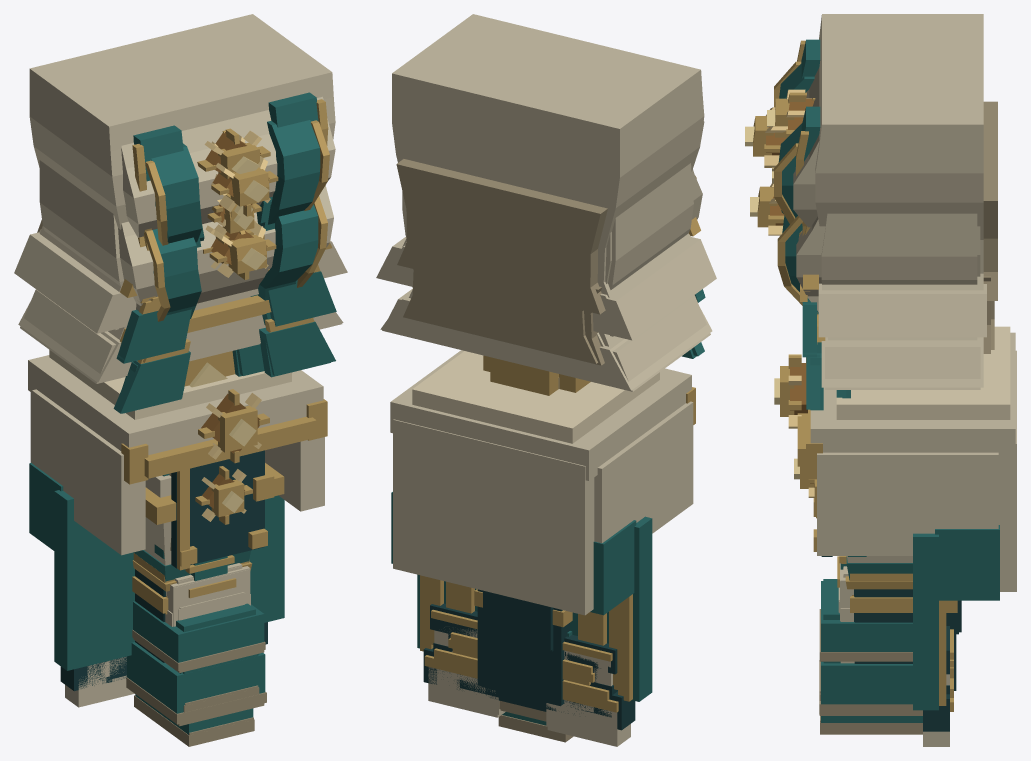
File: cleric-kit.glb
3 views of the same model, side by side, from view 1: azimuth 30°, elevation 25°; view 2: azimuth 150°, elevation 25°; view 3: azimuth 270°, elevation 25° (orthographic). The views are drawn at different scales.
Visible parts, largest first — view 1: cleric-body-orc-male-torso, cleric-head-mesh, cleric-body-dwarf-female-torso, cleric-body-orc-female-torso, cleric-body-dwarf-male-torso, cleric-offhand-mesh, cleric-back-orc-male-mesh, cleric-body-elf-male-torso, cleric-shoes-orc-male-mesh, cleric-shoes-dwarf-male-mesh, cleric-back-orc-female-mesh, cleric-body-orc-female-left-arm (+16 smaller); view 2: cleric-head-mesh, cleric-body-orc-male-torso, cleric-body-orc-female-torso, cleric-body-dwarf-female-torso, cleric-body-dwarf-male-torso, cleric-back-orc-male-mesh, cleric-body-elf-male-torso, cleric-shoes-orc-male-mesh, cleric-back-orc-female-mesh, cleric-shoes-goblin-male-mesh, cleric-back-elf-female-mesh, cleric-weapon-mesh (+6 smaller); view 3: cleric-body-orc-male-torso, cleric-head-mesh, cleric-body-dwarf-male-torso, cleric-body-elf-male-torso, cleric-body-dwarf-female-torso, cleric-shoes-orc-male-mesh, cleric-back-orc-male-mesh, cleric-body-orc-female-torso, cleric-shoes-dwarf-male-mesh, cleric-shoes-elf-male-mesh, cleric-body-orc-female-left-arm, cleric-shoes-goblin-male-mesh (+1 smaller).
Part boxes in pixels (x1=…): cleric-body-orc-male-torso: x1=14, y1=14, x2=347, y2=363; cleric-head-mesh: x1=28, y1=350, x2=327, y2=555; cleric-body-dwarf-female-torso: x1=18, y1=185, x2=343, y2=413; cleric-body-orc-female-torso: x1=39, y1=96, x2=342, y2=361; cleric-body-dwarf-male-torso: x1=20, y1=160, x2=341, y2=413; cleric-offhand-mesh: x1=154, y1=450, x2=274, y2=570; cleric-back-orc-male-mesh: x1=54, y1=490, x2=284, y2=707; cleric-body-elf-male-torso: x1=80, y1=33, x2=280, y2=107; cleric-shoes-orc-male-mesh: x1=126, y1=569, x2=266, y2=724; cleric-shoes-dwarf-male-mesh: x1=132, y1=553, x2=265, y2=670; cleric-back-orc-female-mesh: x1=77, y1=498, x2=273, y2=692; cleric-body-orc-female-left-arm: x1=132, y1=463, x2=284, y2=591; cleric-head-mesh: x1=390, y1=350, x2=695, y2=615; cleric-body-orc-male-torso: x1=376, y1=14, x2=716, y2=340; cleric-body-orc-female-torso: x1=381, y1=93, x2=704, y2=336; cleric-body-dwarf-female-torso: x1=380, y1=169, x2=712, y2=390; cleric-body-dwarf-male-torso: x1=382, y1=163, x2=710, y2=391; cleric-back-orc-male-mesh: x1=417, y1=516, x2=652, y2=746; cleric-body-elf-male-torso: x1=444, y1=33, x2=648, y2=109; cleric-shoes-orc-male-mesh: x1=474, y1=589, x2=572, y2=720; cleric-back-orc-female-mesh: x1=430, y1=578, x2=619, y2=733; cleric-shoes-goblin-male-mesh: x1=483, y1=590, x2=552, y2=650; cleric-back-elf-female-mesh: x1=458, y1=584, x2=590, y2=734; cleric-weapon-mesh: x1=483, y1=355, x2=590, y2=395; cleric-body-orc-male-torso: x1=767, y1=14, x2=997, y2=357; cleric-head-mesh: x1=774, y1=326, x2=1016, y2=600; cleric-body-dwarf-male-torso: x1=805, y1=213, x2=990, y2=410; cleric-body-elf-male-torso: x1=849, y1=32, x2=955, y2=106; cleric-body-dwarf-female-torso: x1=750, y1=183, x2=994, y2=409; cleric-shoes-orc-male-mesh: x1=819, y1=589, x2=957, y2=714; cleric-back-orc-male-mesh: x1=913, y1=533, x2=953, y2=746; cleric-body-orc-female-torso: x1=745, y1=61, x2=986, y2=354; cleric-shoes-dwarf-male-mesh: x1=819, y1=563, x2=912, y2=659; cleric-shoes-elf-male-mesh: x1=820, y1=716, x2=922, y2=734; cleric-body-orc-female-left-arm: x1=845, y1=556, x2=912, y2=589; cleric-shoes-goblin-male-mesh: x1=823, y1=566, x2=961, y2=632.
Size of the model in its own units: 1.13 by 2.76 by 1.05.
